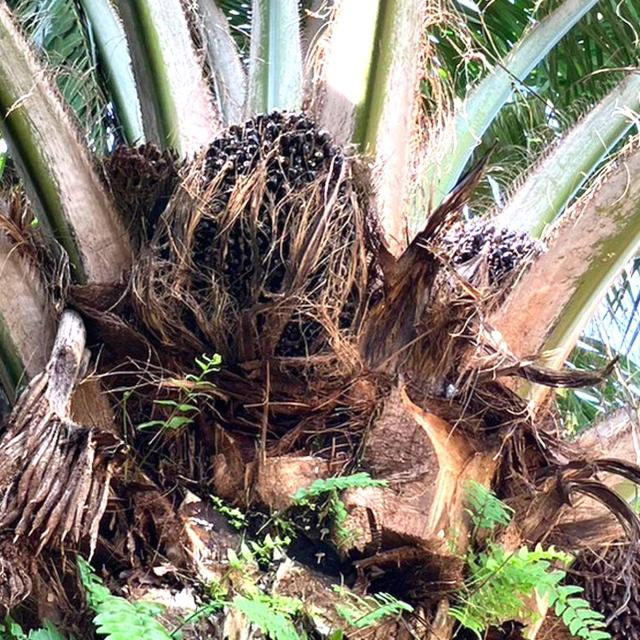unripe: (177, 110, 373, 346)
